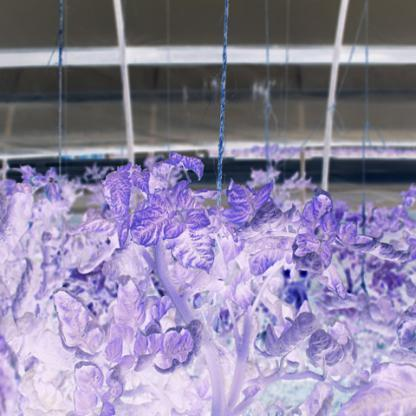Tomato leaf: (219, 173, 276, 248), (51, 285, 106, 355), (145, 318, 213, 372), (131, 193, 197, 246), (244, 240, 294, 275)
